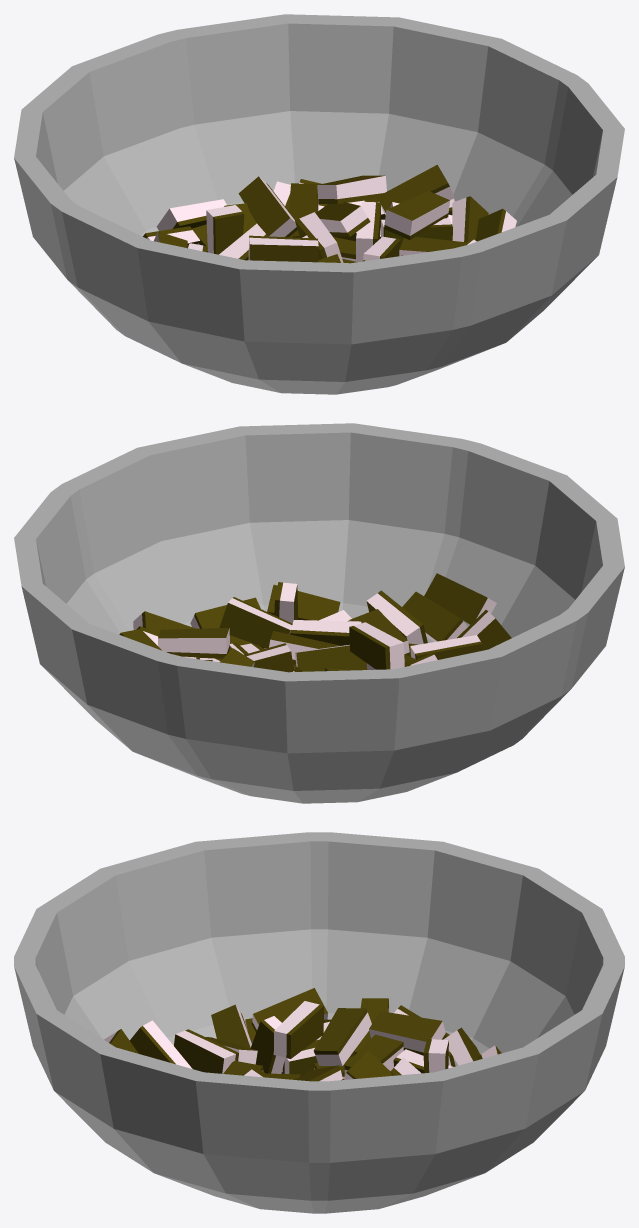
File: fishBowl.fbx
The picture shows the model from 3 angles, top to bottom: view 1: azimuth 30°, elevation 25°; view 2: azimuth 150°, elevation 25°; view 3: azimuth 270°, elevation 25°; orthographic projection.
Visible parts, largest first — view 1: Plane.009, Cube.127; view 2: Plane.009, Cube.127; view 3: Plane.009, Cube.127.
Part boxes in pixels (left/top/right/bottom): Plane.009: left=14, top=14, right=624, bottom=394; Cube.127: left=143, top=164, right=516, bottom=263; Plane.009: left=14, top=423, right=624, bottom=803; Cube.127: left=119, top=573, right=511, bottom=672; Plane.009: left=14, top=832, right=624, bottom=1213; Cube.127: left=104, top=988, right=501, bottom=1081.
Bounding box in the file's own units: 84.75 × 29.16 × 84.75.
